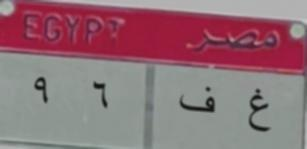6: (90, 78, 115, 119)
9: (30, 73, 54, 115)
faa: (176, 83, 220, 125)
ghayn: (242, 85, 275, 141)
